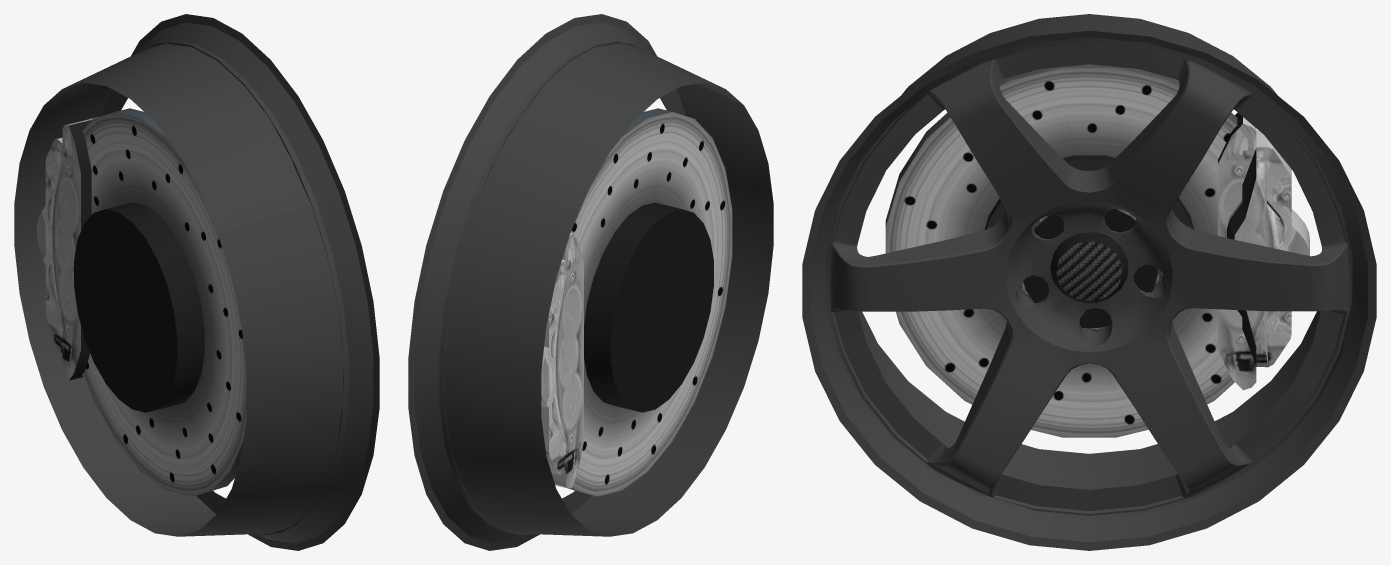
3 renders of one model, left to right at view 1: azimuth 30°, elevation 25°; view 2: azimuth 150°, elevation 25°; view 3: azimuth 270°, elevation 25°, orthographic. The views are drawn at different scales.
Parts seen in each view (by area): view 1: 121, BrakeDisc (1), Caliper (1); view 2: 121, BrakeDisc (1), Caliper (1); view 3: 121, BrakeDisc (1), Caliper (1).
Part boxes in pixels (x1,y1,x2,y2): 121: (14, 14, 379, 550); BrakeDisc (1): (74, 108, 246, 496); Caliper (1): (37, 117, 97, 380); 121: (408, 14, 773, 550); BrakeDisc (1): (569, 108, 732, 496); Caliper (1): (541, 233, 583, 488); 121: (802, 14, 1376, 550); BrakeDisc (1): (885, 64, 1237, 437); Caliper (1): (1218, 112, 1309, 390).
Size of the model in its own units: 0.1319 by 0.5381 by 0.5381.
